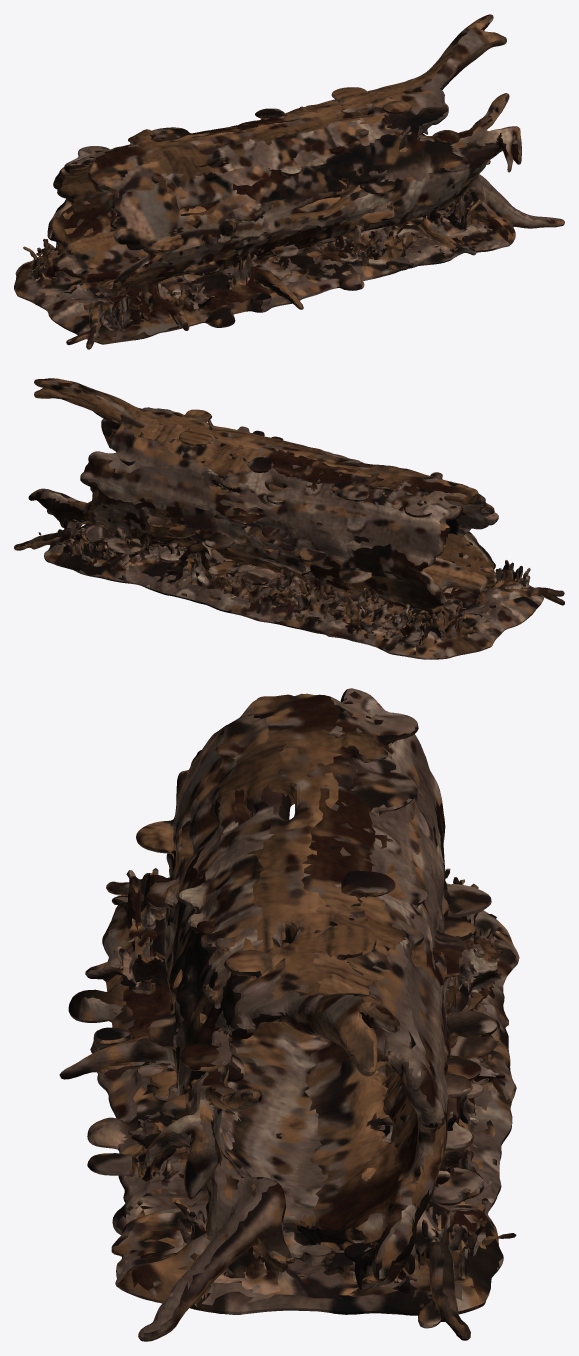
File: swamp_ground_log.obj
The picture shows the model from 3 angles, top to bottom: view 1: azimuth 30°, elevation 25°; view 2: azimuth 150°, elevation 25°; view 3: azimuth 270°, elevation 25°; orthographic projection. The views are drawn at different scales.
Visible parts, largest first — view 1: geometry_0; view 2: geometry_0; view 3: geometry_0.
Part boxes in pixels (x1=…): geometry_0: x1=14, y1=14, x2=564, y2=349; geometry_0: x1=14, y1=378, x2=564, y2=659; geometry_0: x1=59, y1=688, x2=519, y2=1341.
Size of the model in its own units: 1 by 0.3204 by 0.417.
